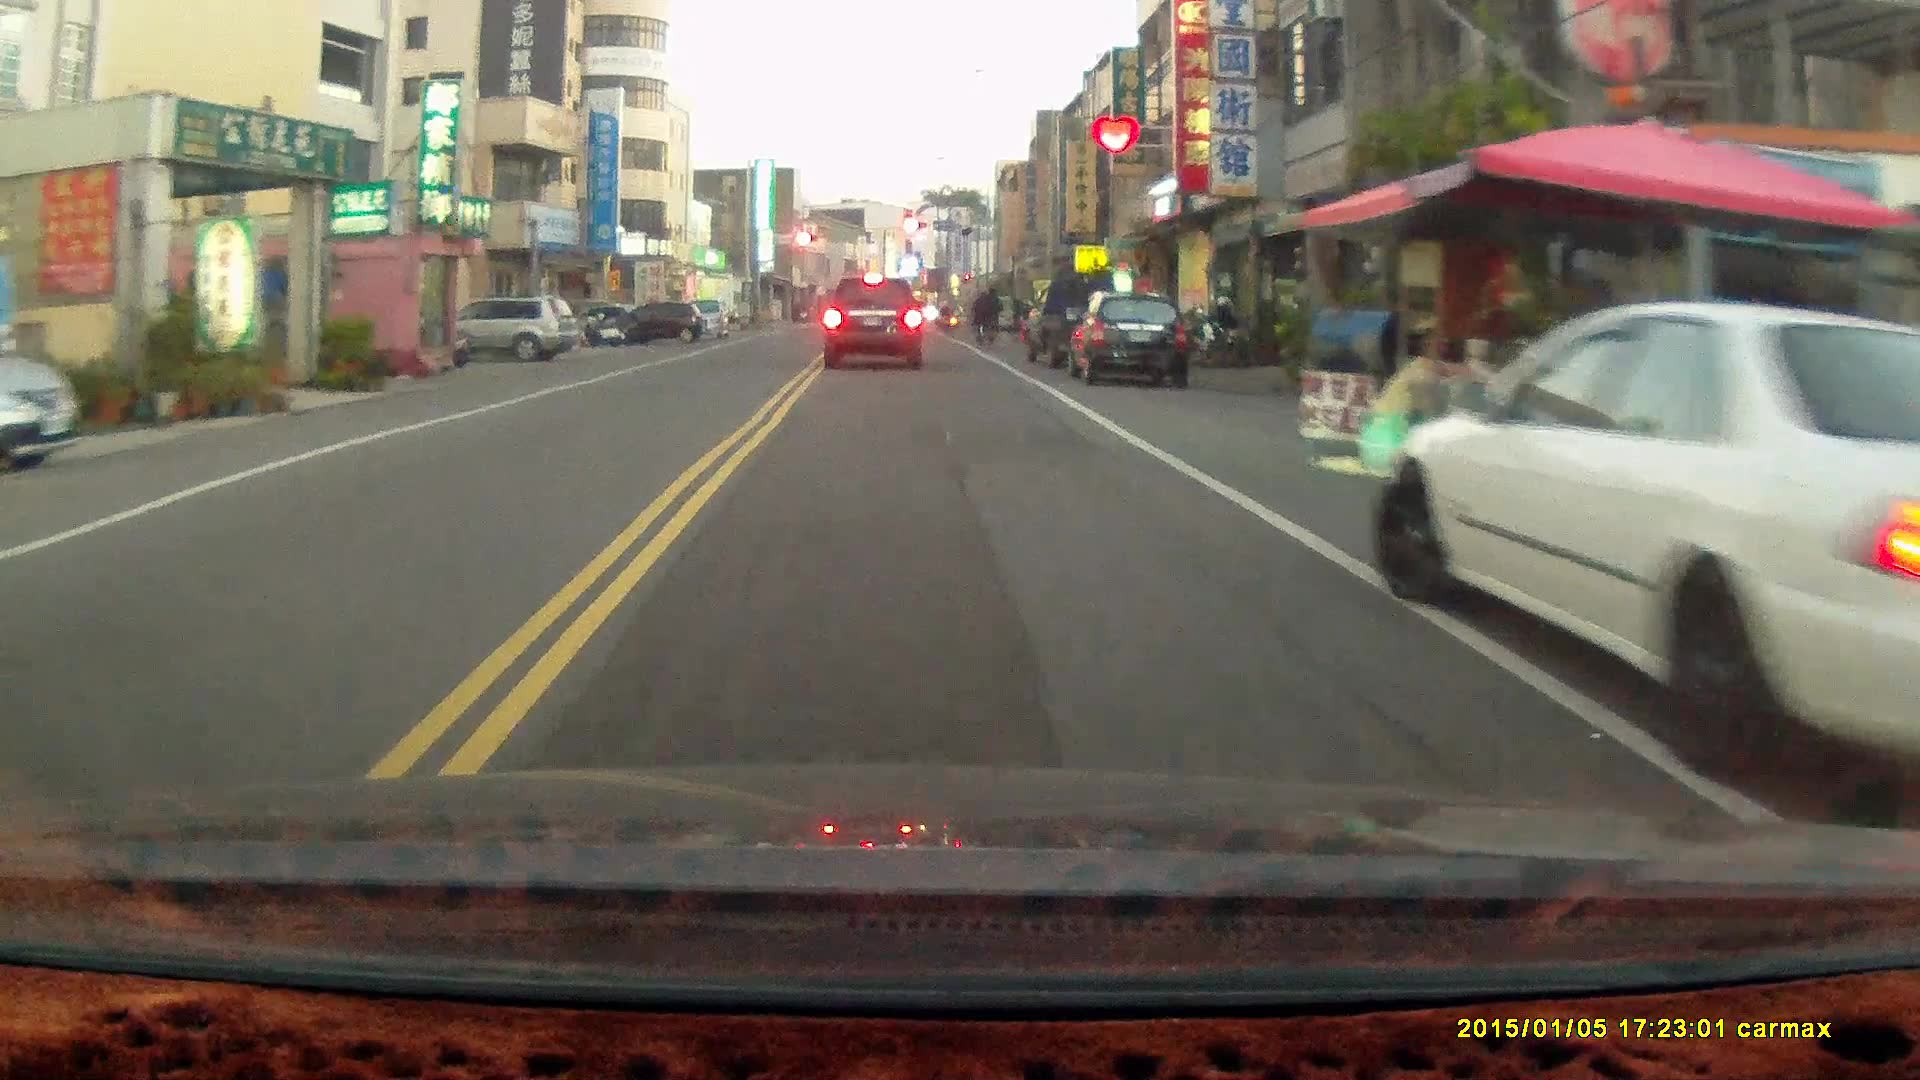rider: (974, 283, 1004, 347)
vehicle: (1371, 297, 1920, 773), (1069, 290, 1198, 391), (1, 343, 81, 477), (419, 299, 579, 365), (821, 274, 928, 370), (599, 297, 703, 345)
